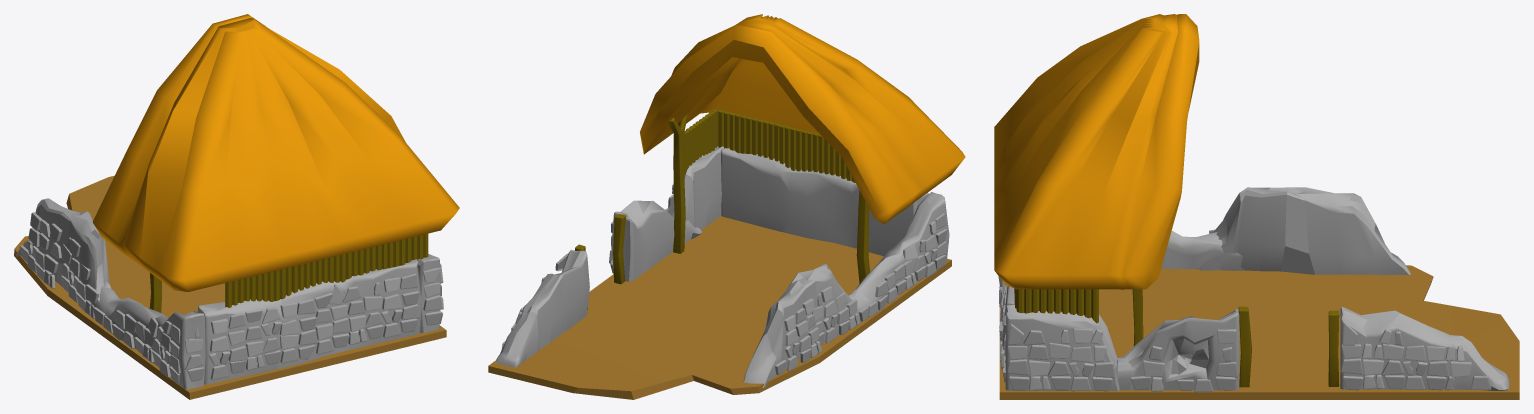
File: MSH_Static_House.fbx
The picture shows the model from 3 angles, left to right: view 1: azimuth 30°, elevation 25°; view 2: azimuth 150°, elevation 25°; view 3: azimuth 270°, elevation 25°; orthographic projection. The views are drawn at different scales.
Parts seen in each view (by area): view 1: pCube28, pCube29, pCube14, pCube19, pCube16, pCube27, pCube26, pCube25, pCube11, Stand_stick4; view 2: pCube29, pCube28, pCube14, pCube9, pCube19, pCube10, pCube16, pCube11, pCube25, pCube26, Stand_stick3, pCube24 (+2 smaller); view 3: pCube28, pCube29, pCube19, pCube10, pCube9, pCube11, pCube24, pCube16, Stand_stick5, Stand_stick6, Stand_stick3.
Boxes of the visible parts, x1=… form: pCube28: x1=92, y1=14, x2=459, y2=291; pCube29: x1=14, y1=175, x2=446, y2=399; pCube14: x1=197, y1=259, x2=421, y2=384; pCube19: x1=15, y1=198, x2=111, y2=302; pCube16: x1=90, y1=286, x2=205, y2=389; pCube27: x1=225, y1=267, x2=291, y2=307; pCube26: x1=292, y1=251, x2=357, y2=293; pCube25: x1=358, y1=234, x2=423, y2=275; pCube11: x1=417, y1=254, x2=440, y2=332; Stand_stick4: x1=149, y1=272, x2=162, y2=312; pCube29: x1=488, y1=216, x2=951, y2=399; pCube28: x1=640, y1=14, x2=965, y2=224; pCube14: x1=721, y1=148, x2=928, y2=256; pCube9: x1=496, y1=249, x2=589, y2=367; pCube19: x1=743, y1=264, x2=852, y2=388; pCube10: x1=611, y1=200, x2=702, y2=281; pCube16: x1=848, y1=192, x2=949, y2=329; pCube11: x1=668, y1=146, x2=723, y2=229; pCube25: x1=718, y1=110, x2=780, y2=161; pCube26: x1=779, y1=125, x2=840, y2=176; Stand_stick3: x1=668, y1=114, x2=687, y2=253; pCube24: x1=684, y1=109, x2=718, y2=174; pCube28: x1=994, y1=14, x2=1199, y2=289; pCube29: x1=999, y1=265, x2=1519, y2=399; pCube19: x1=1199, y1=187, x2=1410, y2=274; pCube10: x1=1117, y1=309, x2=1239, y2=390; pCube9: x1=1340, y1=307, x2=1509, y2=390; pCube11: x1=1005, y1=305, x2=1119, y2=390; pCube24: x1=1016, y1=289, x2=1098, y2=323; pCube16: x1=1161, y1=231, x2=1244, y2=270; Stand_stick5: x1=1238, y1=306, x2=1251, y2=387; Stand_stick6: x1=1328, y1=310, x2=1339, y2=386; Stand_stick3: x1=1132, y1=289, x2=1143, y2=346.
Bounding box in the file's own units: 32.99 × 31.07 × 47.95.
